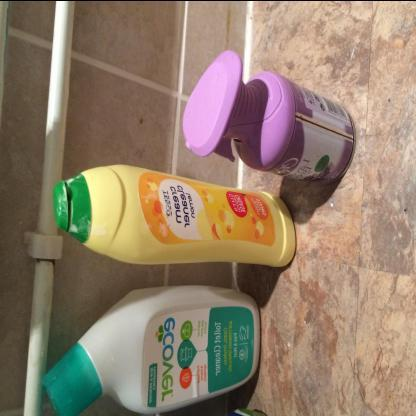metal: (182, 48, 358, 185)
plastik: (43, 283, 263, 414), (51, 162, 299, 270)
